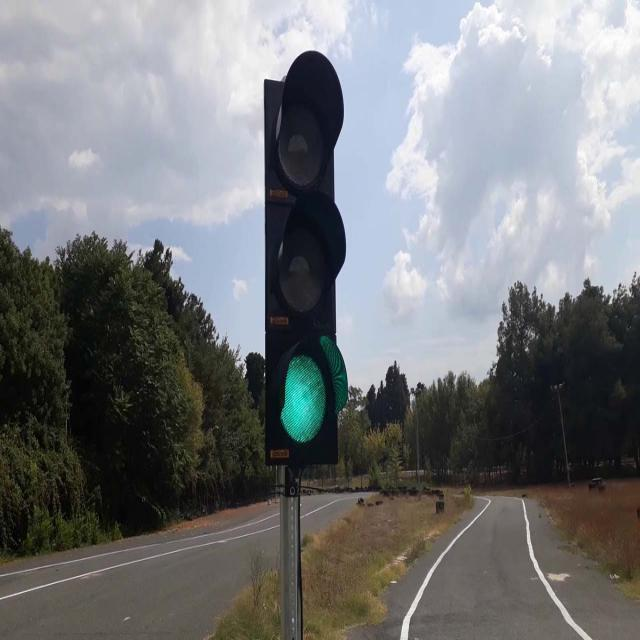yesil: (262, 54, 350, 464)
